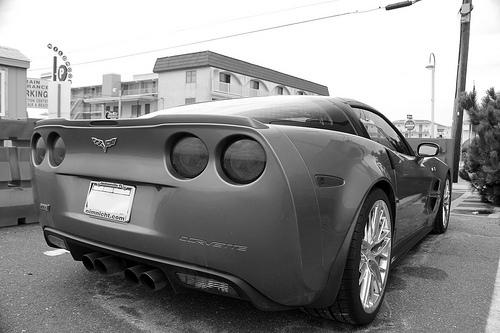car: (31, 95, 456, 326)
